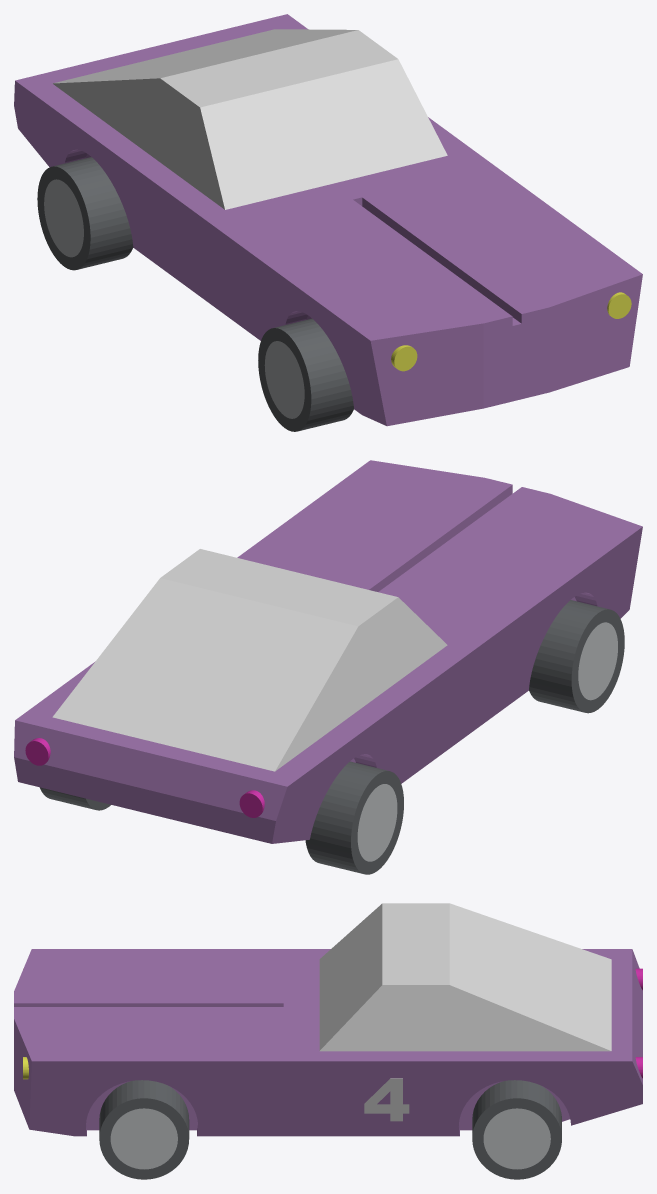
File: Vroom.glb
3 renders of one model, top to bottom at view 1: azimuth 30°, elevation 25°; view 2: azimuth 150°, elevation 25°; view 3: azimuth 270°, elevation 25°, orthographic. The views are drawn at different scales.
Visible parts, largest first — view 1: Mesh_Mesh_head_geo.001_lambert2SG.001; view 2: Mesh_Mesh_head_geo.001_lambert2SG.001; view 3: Mesh_Mesh_head_geo.001_lambert2SG.001.
Boxes of the visible parts, x1,y1,x2,y2 form: Mesh_Mesh_head_geo.001_lambert2SG.001: (14,14,642,431); Mesh_Mesh_head_geo.001_lambert2SG.001: (14,460,642,874); Mesh_Mesh_head_geo.001_lambert2SG.001: (14,903,642,1179).
Bounding box in the file's own units: 0.068 × 0.042 × 0.14.
